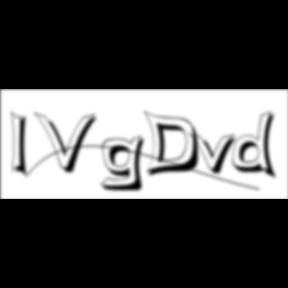D: (144, 110, 206, 180)
V: (34, 110, 102, 176)
d: (233, 110, 283, 182)
g: (100, 134, 152, 194)
l: (12, 108, 34, 182)
v: (189, 131, 243, 177)
